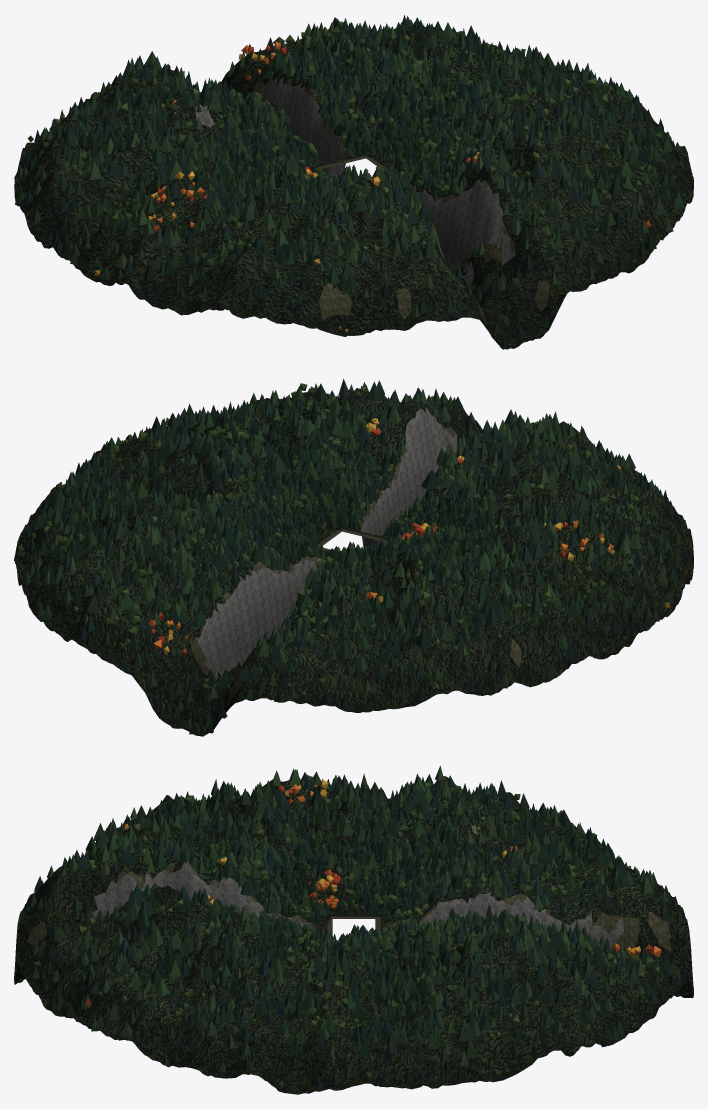
Rendered from backdrop_near_rect_waste_summer.glb.
3 views of the same model, one above another, from view 1: azimuth 30°, elevation 25°; view 2: azimuth 150°, elevation 25°; view 3: azimuth 270°, elevation 25° (orthographic).
Visible parts, largest first — view 1: near_land_S, trees_land_W_0, near_land_W, trees_land_S_0, trees_land_E_0, trees_land_N_0, near_land_E, near_land_N; view 2: near_land_N, trees_land_N_0, near_land_W, trees_land_W_0, trees_land_E_0, trees_land_S_0, near_land_S, near_land_E; view 3: near_land_E, trees_land_E_0, trees_land_W_0, near_land_S, trees_land_N_0, trees_land_S_0, near_land_N, near_land_W.
Boxes of the visible parts, <box> form: near_land_S: <box>265,127,682,349</box>; trees_land_W_0: <box>14,90,328,308</box>; near_land_W: <box>14,101,318,318</box>; trees_land_S_0: <box>273,116,673,349</box>; trees_land_E_0: <box>368,19,692,207</box>; trees_land_N_0: <box>27,15,432,165</box>; near_land_E: <box>363,25,693,216</box>; near_land_N: <box>26,25,434,176</box>; near_land_N: <box>26,512,441,736</box>; trees_land_N_0: <box>35,500,442,734</box>; near_land_W: <box>390,463,693,695</box>; trees_land_W_0: <box>383,452,684,691</box>; trees_land_E_0: <box>16,390,344,585</box>; trees_land_S_0: <box>274,378,674,538</box>; near_land_S: <box>276,388,677,547</box>; near_land_E: <box>14,398,346,594</box>; near_land_E: <box>114,915,594,1094</box>; trees_land_E_0: <box>120,910,585,1090</box>; trees_land_W_0: <box>137,765,562,915</box>; near_land_S: <box>14,816,331,1039</box>; trees_land_N_0: <box>384,809,692,1041</box>; trees_land_S_0: <box>15,807,322,1031</box>; near_land_N: <box>380,819,693,1047</box>; near_land_W: <box>143,776,593,919</box>.
Size of the model in its own units: 577 by 177 by 576.
4 materials, 3 textured.
